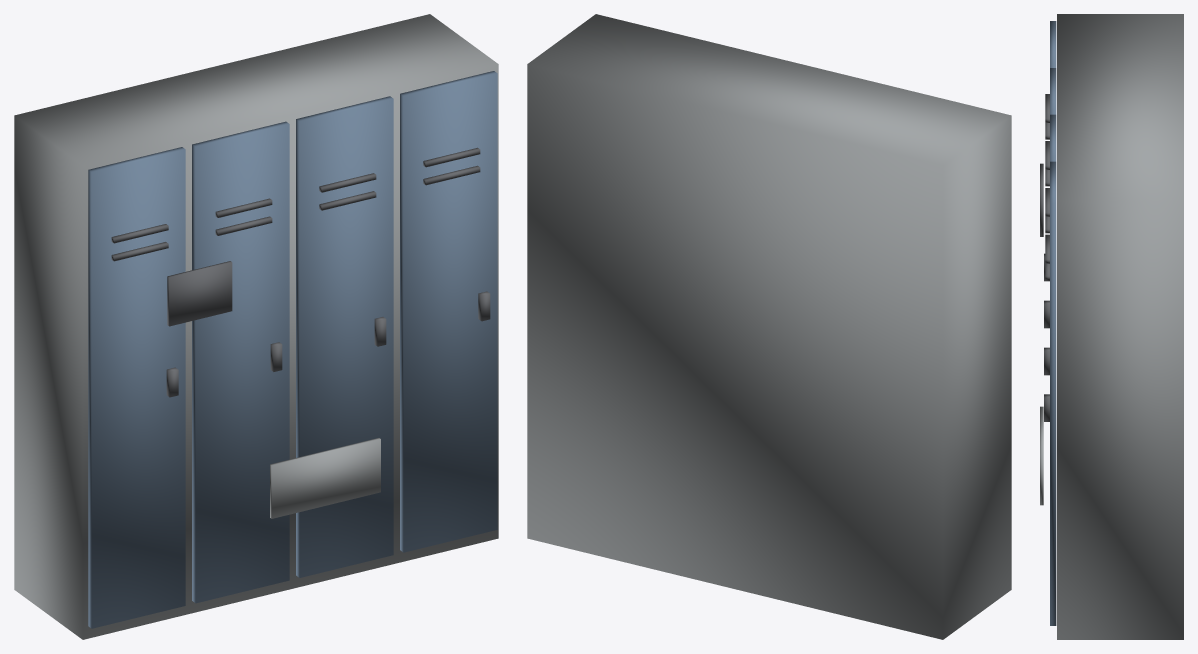
Rendered from equipment_locker__weathered.glb.
3 views of the same model, side by side, from view 1: azimuth 30°, elevation 25°; view 2: azimuth 150°, elevation 25°; view 3: azimuth 270°, elevation 25° (orthographic). The views are drawn at different scales.
Visible parts, largest first — view 1: world; view 2: world; view 3: world.
Boxes of the visible parts, x1=… form: world: x1=14, y1=14, x2=498, y2=639; world: x1=527, y1=14, x2=1011, y2=639; world: x1=1040, y1=14, x2=1183, y2=639.
Size of the model in its own units: 1.68 by 1.83 by 0.5446.
